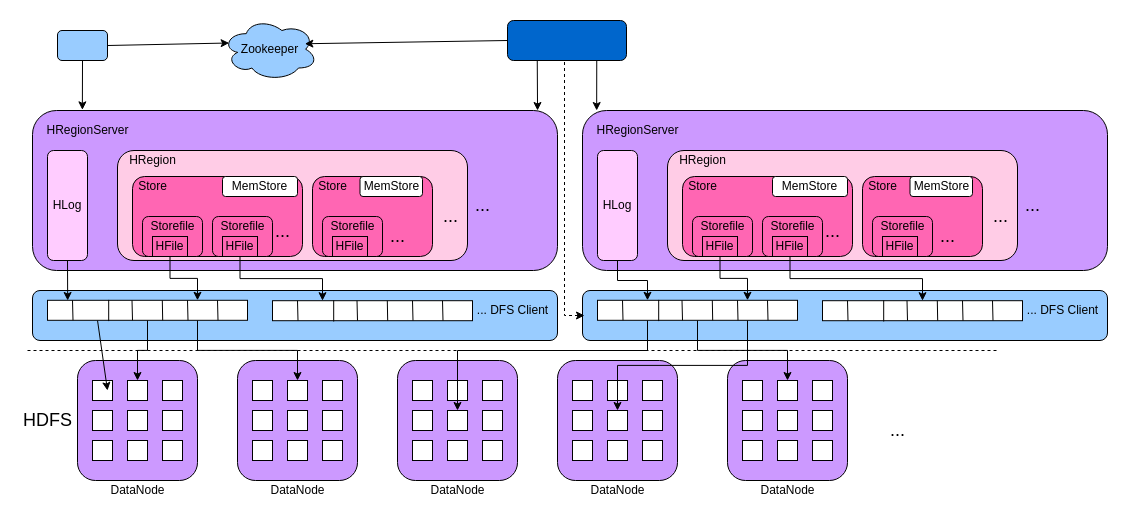
Image size: 1125x517. Some labels were removed from this diagram. Here are the shapes that lost their labels. From the top down, the box of each, then its label:
(56, 30, 108, 60): Client
(506, 20, 626, 60): HMaster
